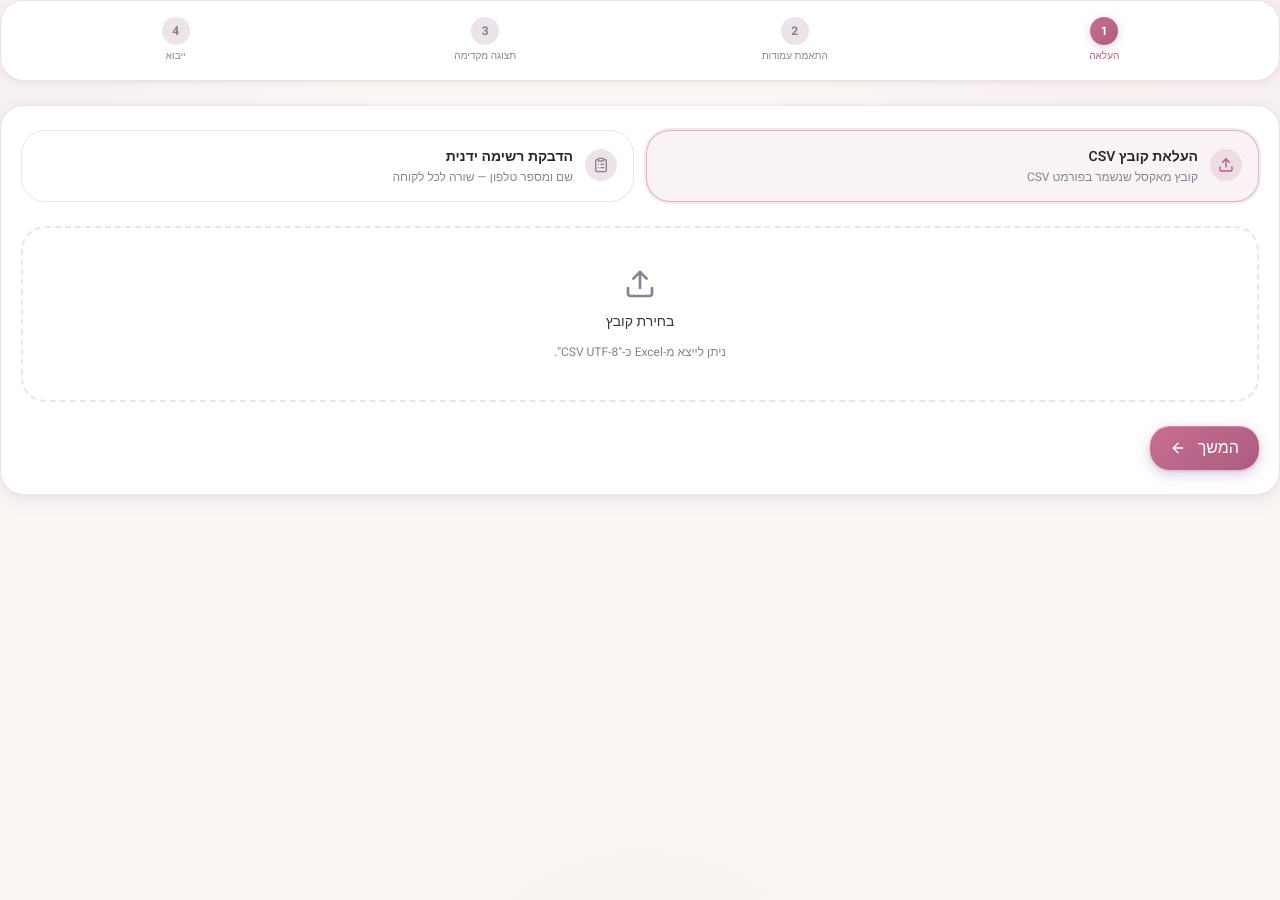
ImportWizard — upload step › switches to the paste method and shows the textarea
Click the text "הדבקת רשימה ידנית" at (509, 156), box [446, 146, 573, 167]
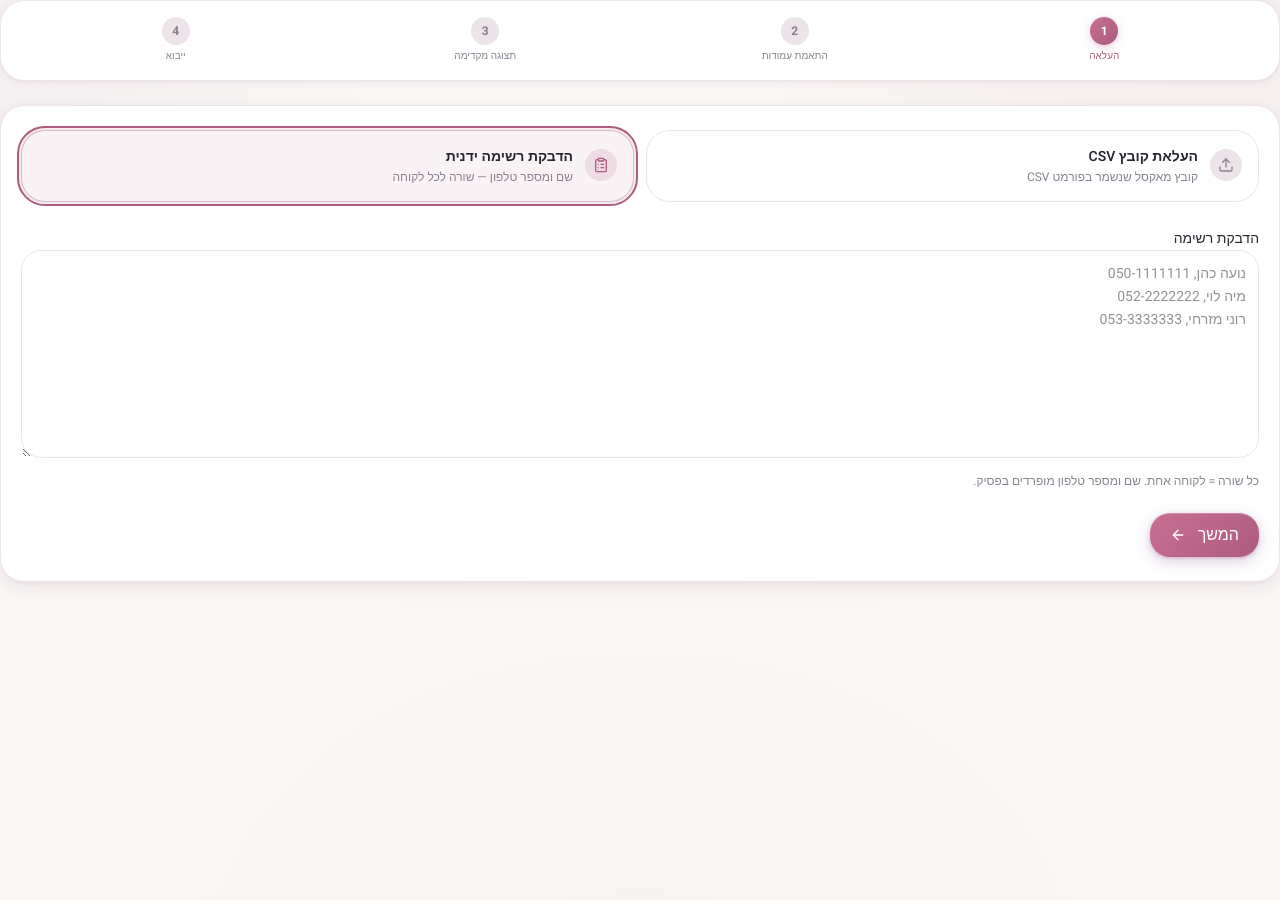
Expected: the text "הדבקת רשימה" is shown, [1174, 228, 1259, 249]
Expected: the text box is shown, [21, 250, 1259, 458]
